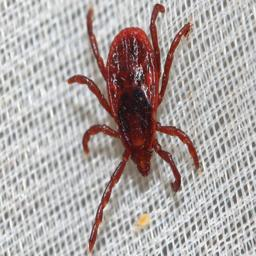Rhipicephalus sanguineus: (68, 4, 200, 251)
